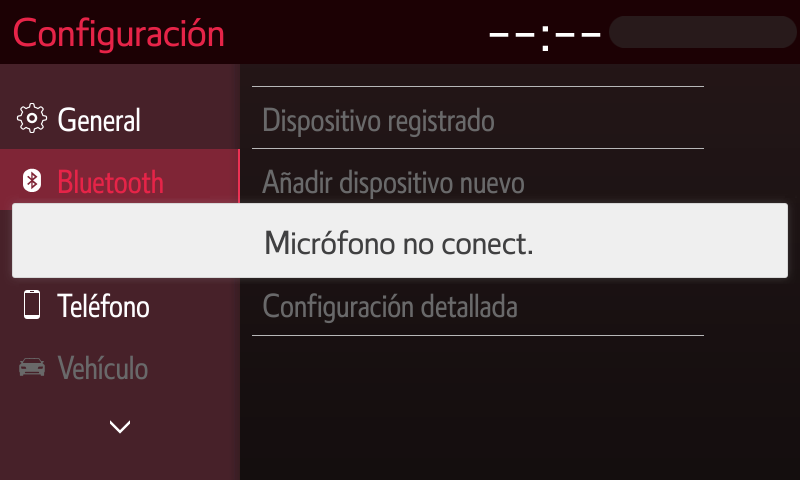touchPart: (16, 286, 166, 328), (2, 104, 157, 139), (107, 414, 137, 436)
untouchPart: (250, 83, 718, 152), (249, 276, 709, 342), (248, 146, 717, 205), (3, 144, 245, 213), (478, 5, 800, 50), (14, 12, 236, 53), (14, 351, 153, 385)
